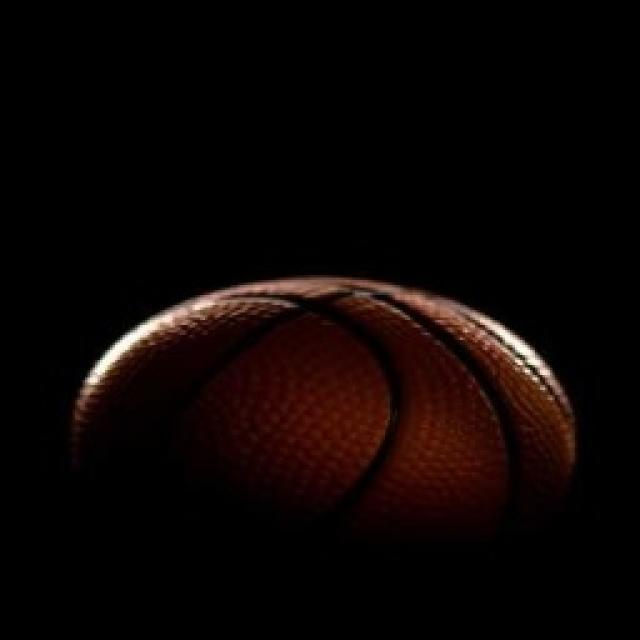rim: (64, 262, 597, 640)
